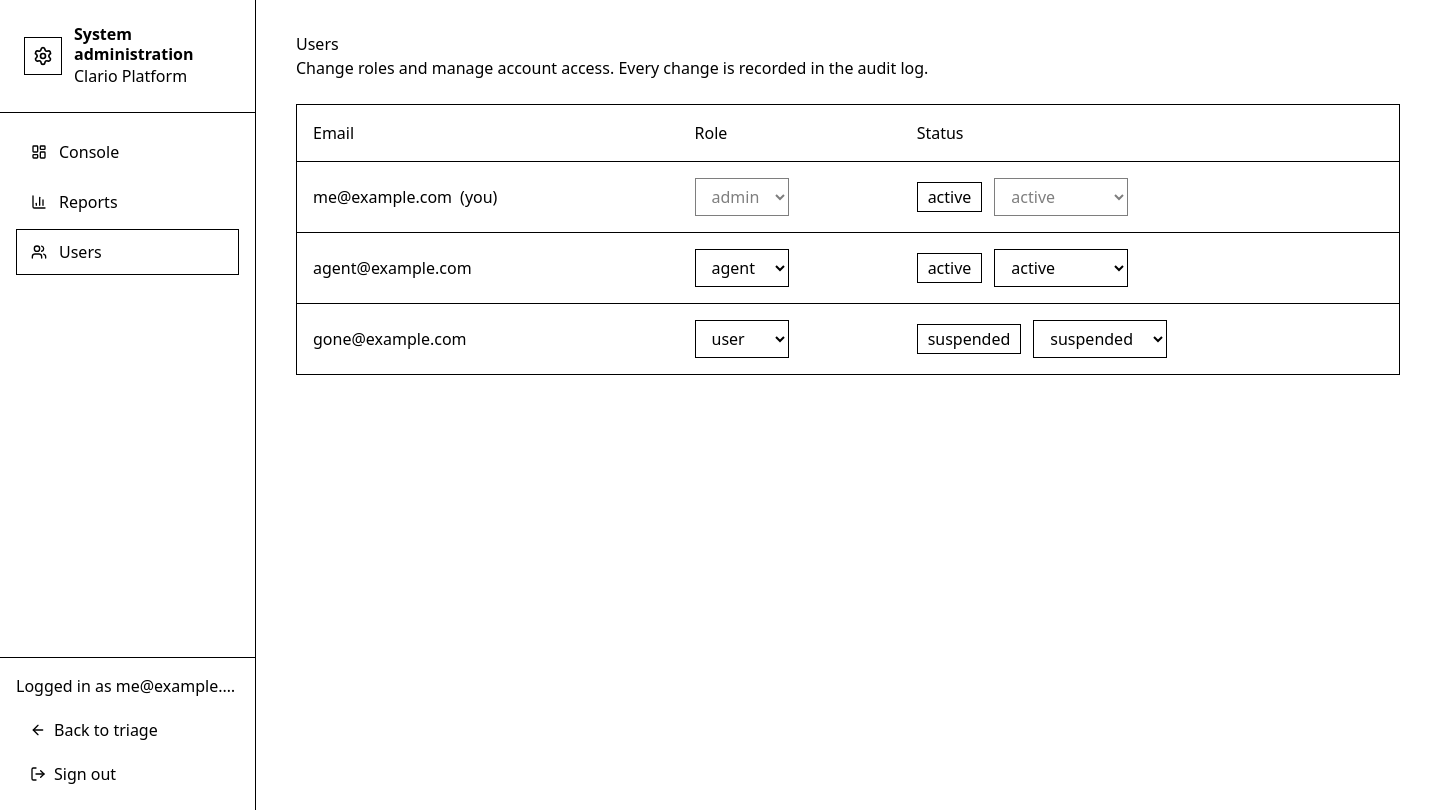
Test case: Admin users page (FR-042 / FR-043) › uses a stronger prompt for deactivation
This screenshot has width=1440, height=810.
Select "deactivated" in the 2nd dropdown named "Account status for agent@example.com" at (1061, 268), box [994, 249, 1128, 287]
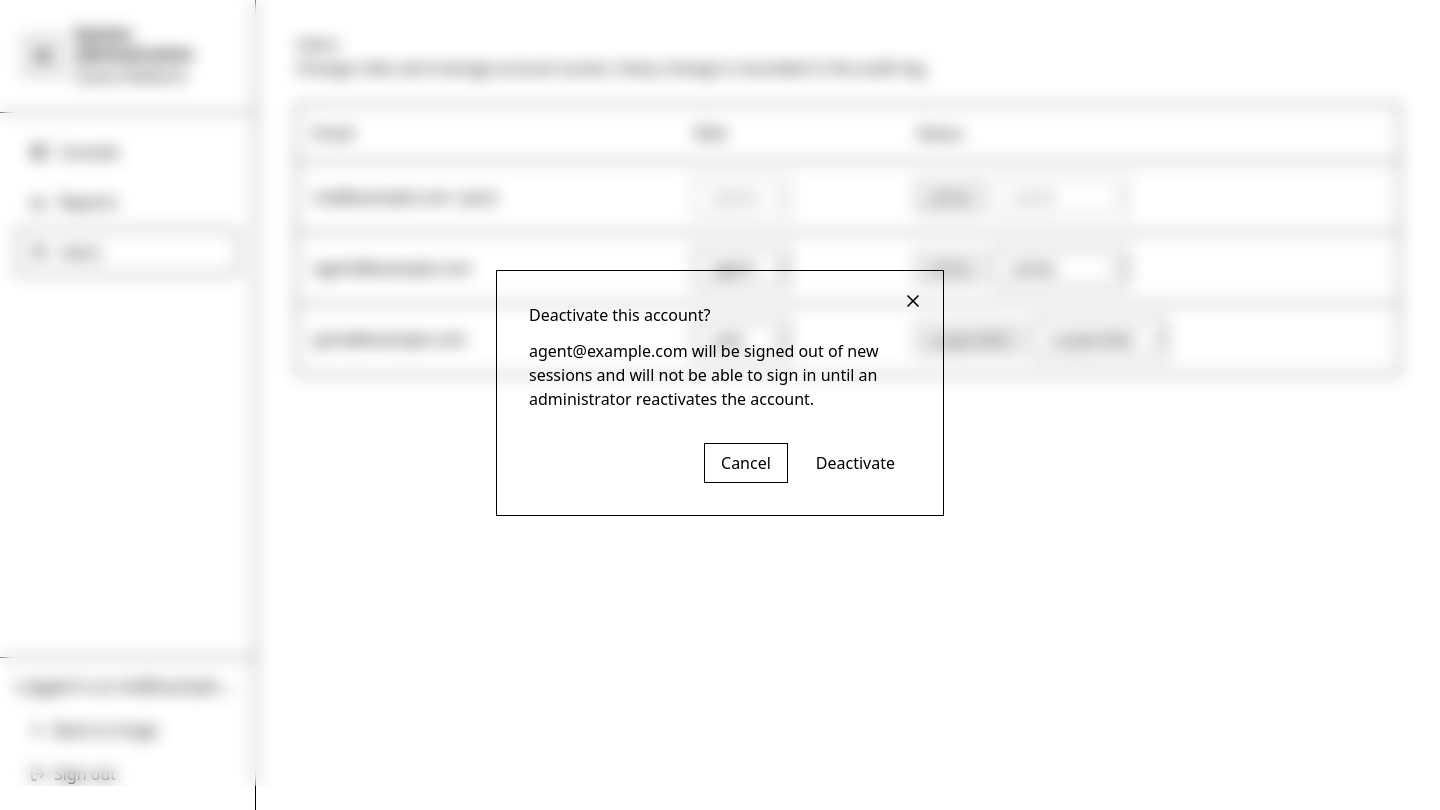
Expected: the heading "Deactivate this account?" is shown, [529, 304, 710, 326]
